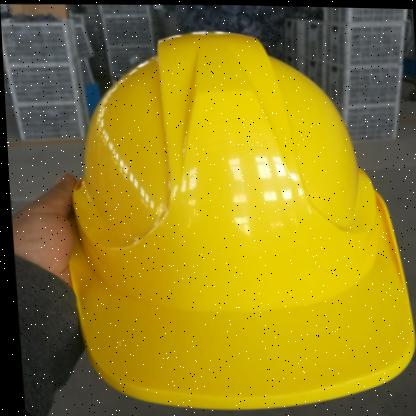helmet: (49, 22, 415, 415)
